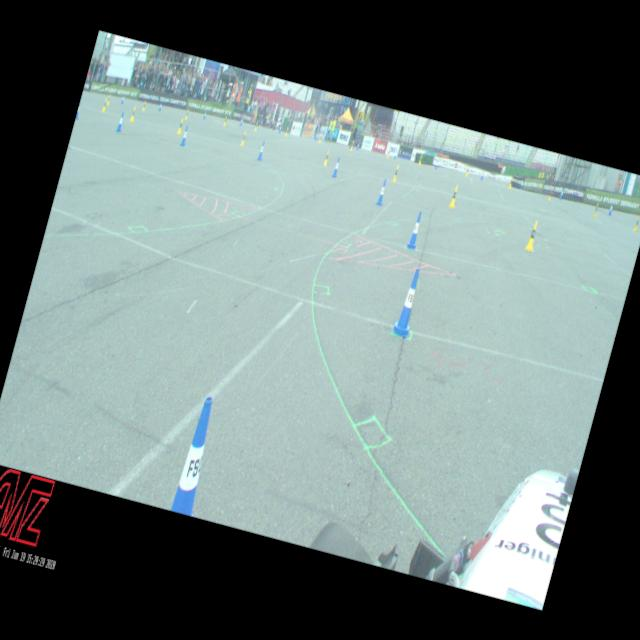blue_cone: (170, 394, 222, 516), (391, 266, 425, 337), (406, 210, 424, 250), (376, 178, 388, 205), (331, 156, 341, 178), (116, 110, 126, 132), (180, 125, 190, 146), (256, 140, 266, 160), (75, 102, 82, 120), (608, 202, 614, 215), (558, 189, 564, 200), (392, 149, 398, 160), (480, 169, 484, 180), (120, 94, 124, 104), (158, 102, 162, 112), (520, 180, 524, 190), (238, 117, 242, 126), (202, 110, 206, 118), (356, 142, 360, 150), (434, 160, 438, 168)
yellow_cone: (524, 219, 540, 252), (448, 184, 459, 208), (632, 214, 640, 231), (129, 105, 137, 122), (240, 130, 248, 146), (322, 150, 330, 166), (177, 118, 184, 134), (101, 96, 108, 112), (592, 202, 600, 216), (392, 164, 398, 180), (105, 94, 111, 106), (508, 176, 514, 188), (464, 164, 469, 177), (184, 108, 189, 120), (349, 140, 354, 150), (418, 154, 422, 166), (142, 100, 146, 111), (222, 116, 226, 126), (254, 122, 258, 132), (318, 134, 322, 144), (284, 127, 288, 137), (386, 148, 390, 158), (548, 192, 552, 200)
